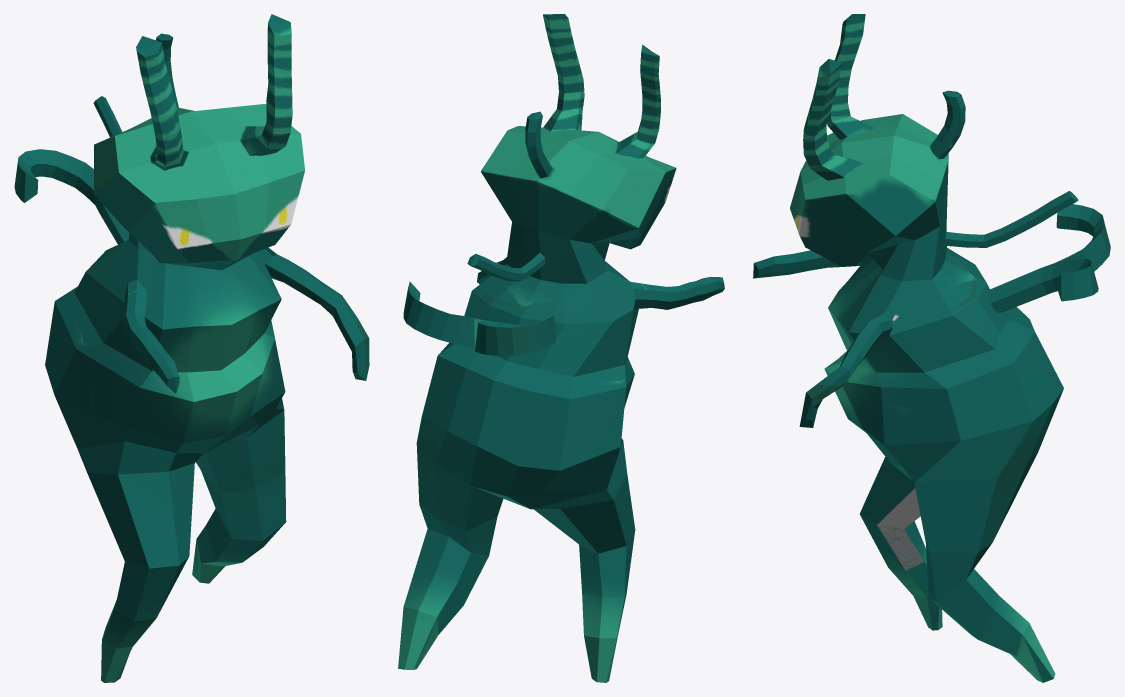
File: monstruo1_caminar_22.obj
The picture shows the model from 3 angles, left to right: view 1: azimuth 30°, elevation 25°; view 2: azimuth 150°, elevation 25°; view 3: azimuth 270°, elevation 25°; orthographic projection. The views are drawn at different scales.
Visible parts, largest first — view 1: Monstruo_basico; view 2: Monstruo_basico; view 3: Monstruo_basico.
Part boxes in pixels (bbox=[...]): Monstruo_basico: bbox=[14, 14, 369, 682]; Monstruo_basico: bbox=[398, 14, 724, 682]; Monstruo_basico: bbox=[753, 14, 1110, 682].
Bounding box in the file's own units: 0.3668 × 1.02 × 0.5394.
